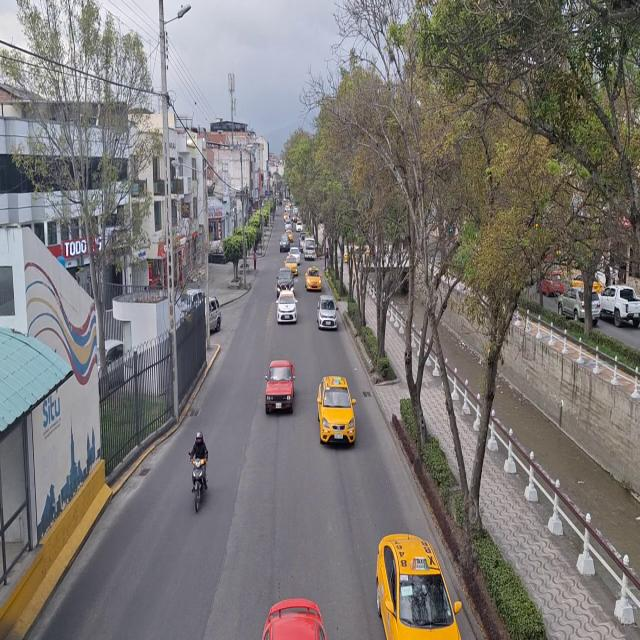CMT: (266, 359, 295, 415), (600, 286, 640, 326)
MOTORCYCLE: (190, 456, 209, 514)
SED: (322, 379, 356, 445)
SUV: (558, 286, 600, 325)
TRUCK: (304, 236, 315, 260)
